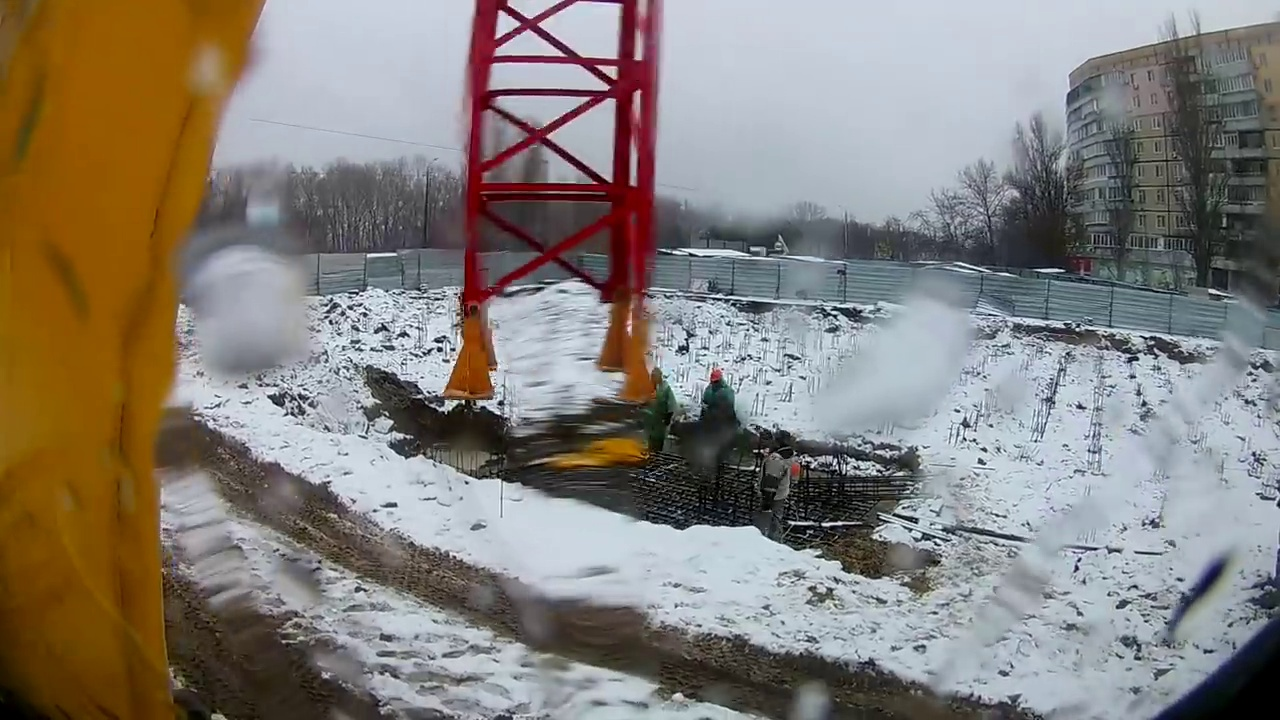helmet: (710, 371, 722, 382)
helmet-off: (769, 430, 792, 461), (650, 368, 663, 385)
helmet-on: (706, 368, 726, 391)
person: (690, 368, 741, 466), (755, 430, 795, 546), (643, 368, 676, 455)
